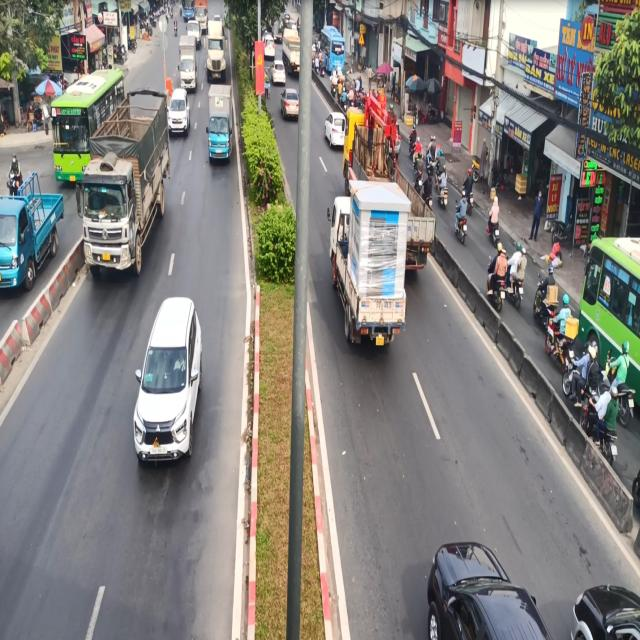car: (129, 288, 214, 486), (168, 82, 194, 142)
truck: (84, 87, 176, 295), (328, 185, 410, 346), (280, 76, 300, 120)
